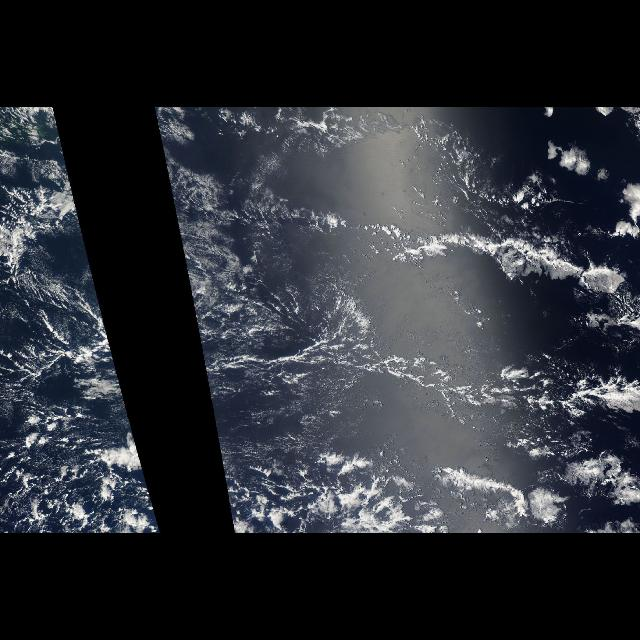Fish: (196, 125, 640, 502)
Sugar: (154, 112, 336, 298)
